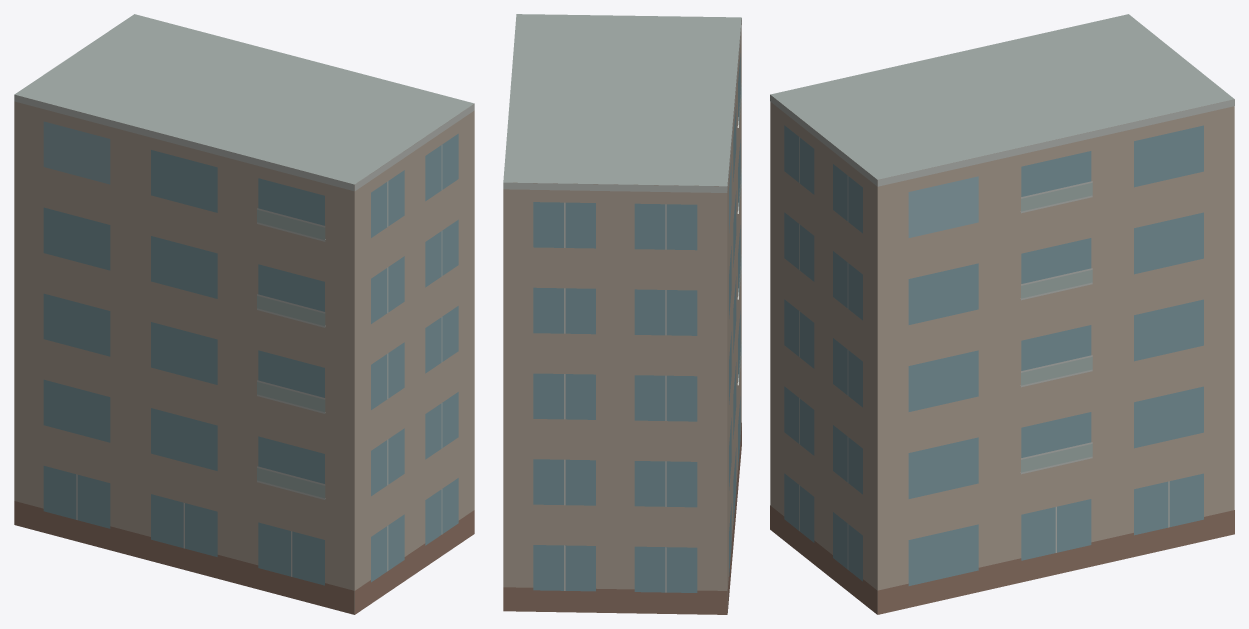
The model's file is survey-upis-32884347.glb.
3 views of the same model, side by side, from view 1: azimuth 30°, elevation 25°; view 2: azimuth 150°, elevation 25°; view 3: azimuth 270°, elevation 25° (orthographic).
Visible parts, largest first — view 1: survey-upis-32884347.tmp; view 2: survey-upis-32884347.tmp; view 3: survey-upis-32884347.tmp.
Part boxes in pixels (x1,y1,x2,y2): survey-upis-32884347.tmp: (14,14,474,614); survey-upis-32884347.tmp: (503,14,741,614); survey-upis-32884347.tmp: (770,14,1234,614).
Size of the model in its own units: 12.52 by 15.3 by 14.82.
